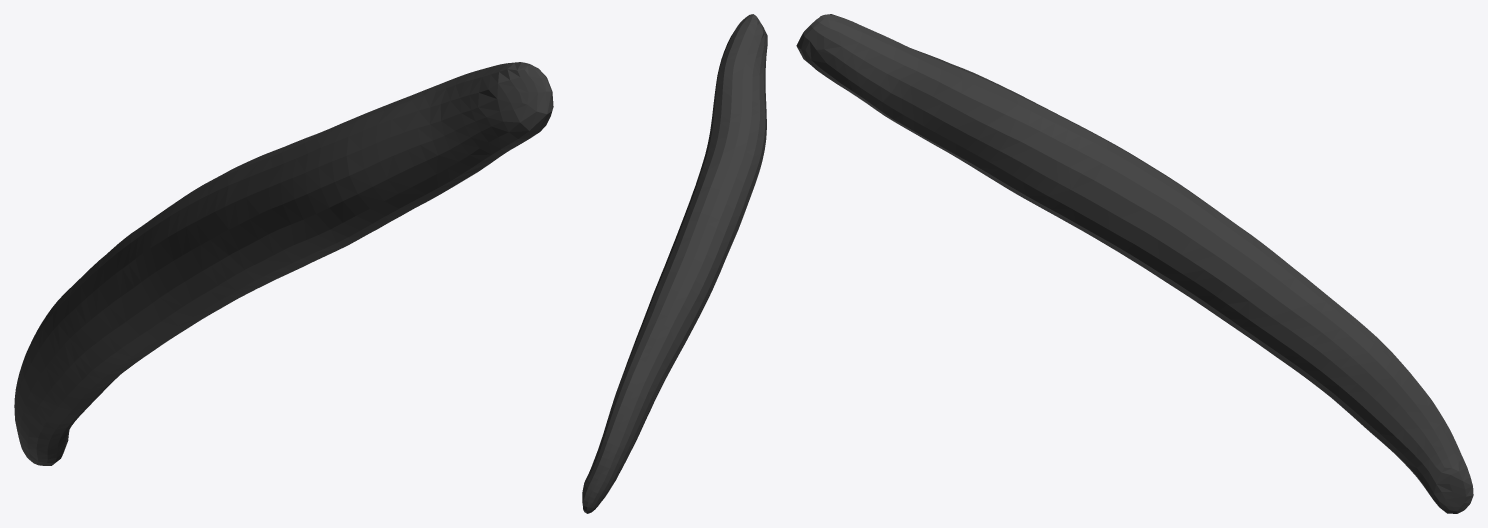
The model's file is DDF_lateral.glb.
3 views of the same model, side by side, from view 1: azimuth 30°, elevation 25°; view 2: azimuth 150°, elevation 25°; view 3: azimuth 270°, elevation 25° (orthographic). The views are drawn at different scales.
Visible parts, largest first — view 1: DDF_lateral; view 2: DDF_lateral; view 3: DDF_lateral.
Boxes of the visible parts, x1,y1,x2,y2 form: DDF_lateral: [14, 62, 553, 465]; DDF_lateral: [582, 14, 767, 513]; DDF_lateral: [796, 14, 1473, 513].
Size of the model in its own units: 11.63 by 43.69 by 50.85.
Materials: 1 (1 with a texture image).
